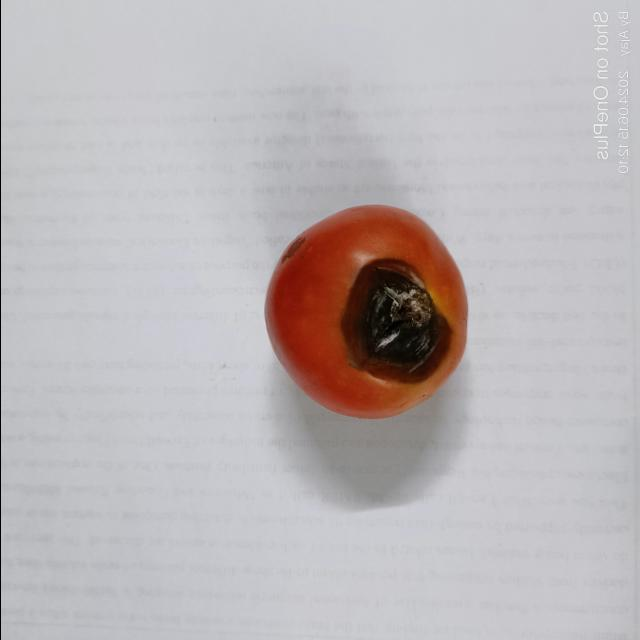Anthrocnose: (338, 256, 449, 382)
